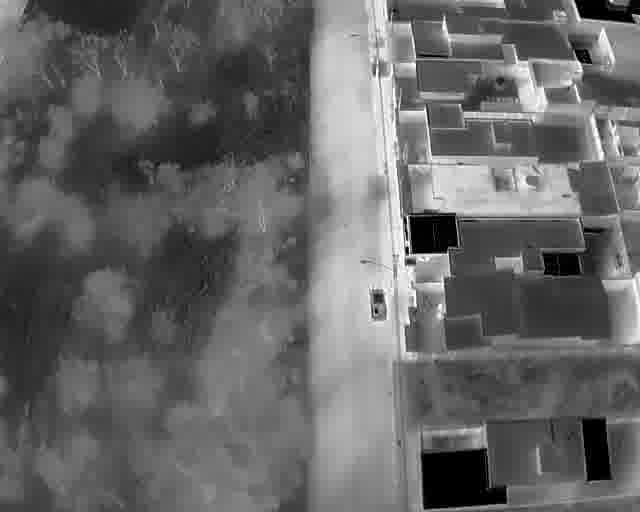car: (370, 288, 388, 321)
